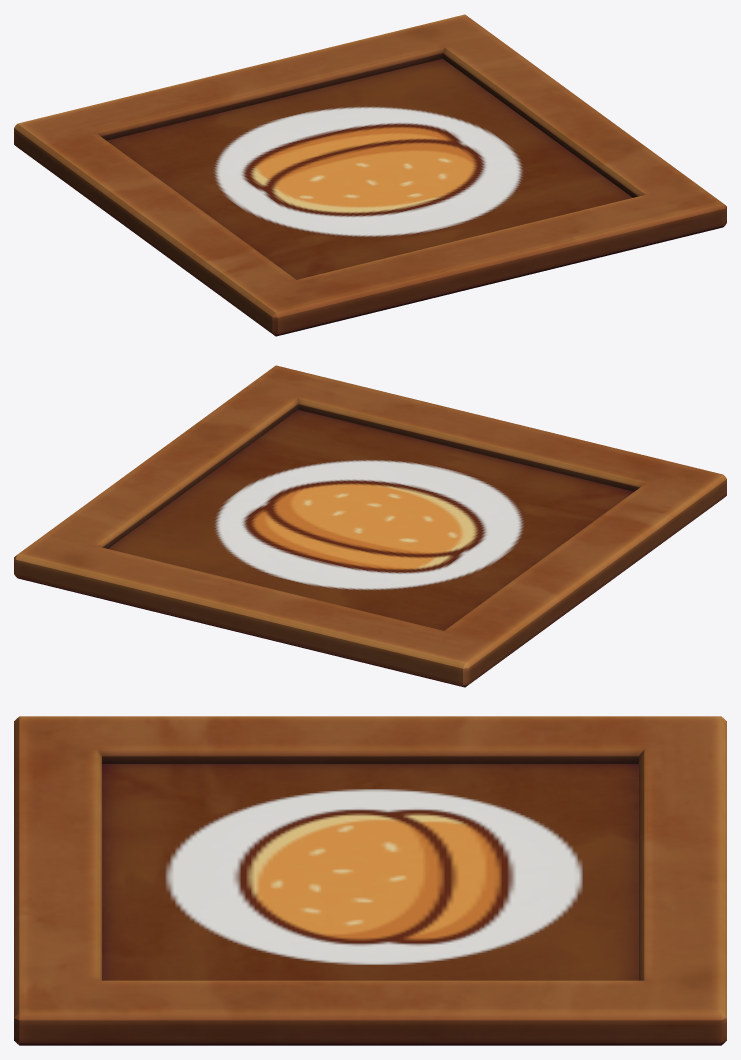
The model's file is IngredientsLidCounter.fbx.
The picture shows the model from 3 angles, top to bottom: view 1: azimuth 30°, elevation 25°; view 2: azimuth 150°, elevation 25°; view 3: azimuth 270°, elevation 25°; orthographic projection. The views are drawn at different scales.
Visible parts, largest first — view 1: Ingredients_Box_Lid; view 2: Ingredients_Box_Lid; view 3: Ingredients_Box_Lid.
Part boxes in pixels (x1,y1,x2,y2): Ingredients_Box_Lid: (14,14,726,336); Ingredients_Box_Lid: (14,365,726,687); Ingredients_Box_Lid: (14,716,726,1045).
Size of the model in its own units: 200 by 9.99 by 200.
Materials: 1 (1 with a texture image).
